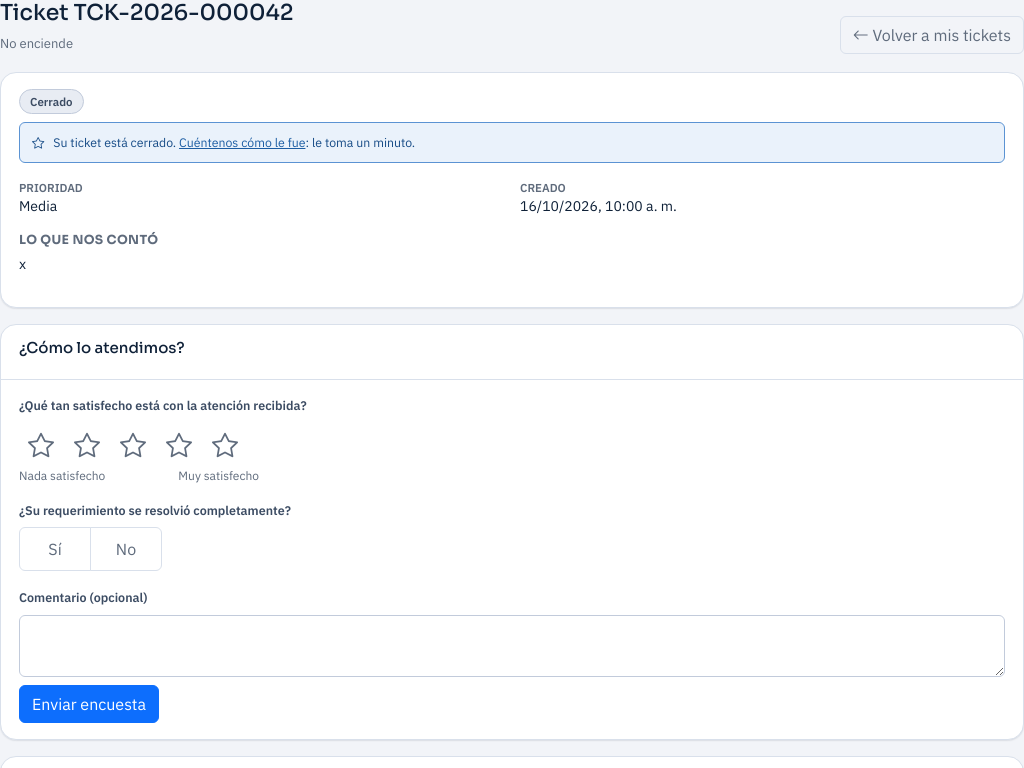
Test: La encuesta de satisfacción › se responde con estrellas, resuelto y comentario
The width and height of the screenshot is (1024, 768).
Step 1. Click the radio button named "4 de 5" → (179, 445), box left=157, top=423, right=201, bottom=467
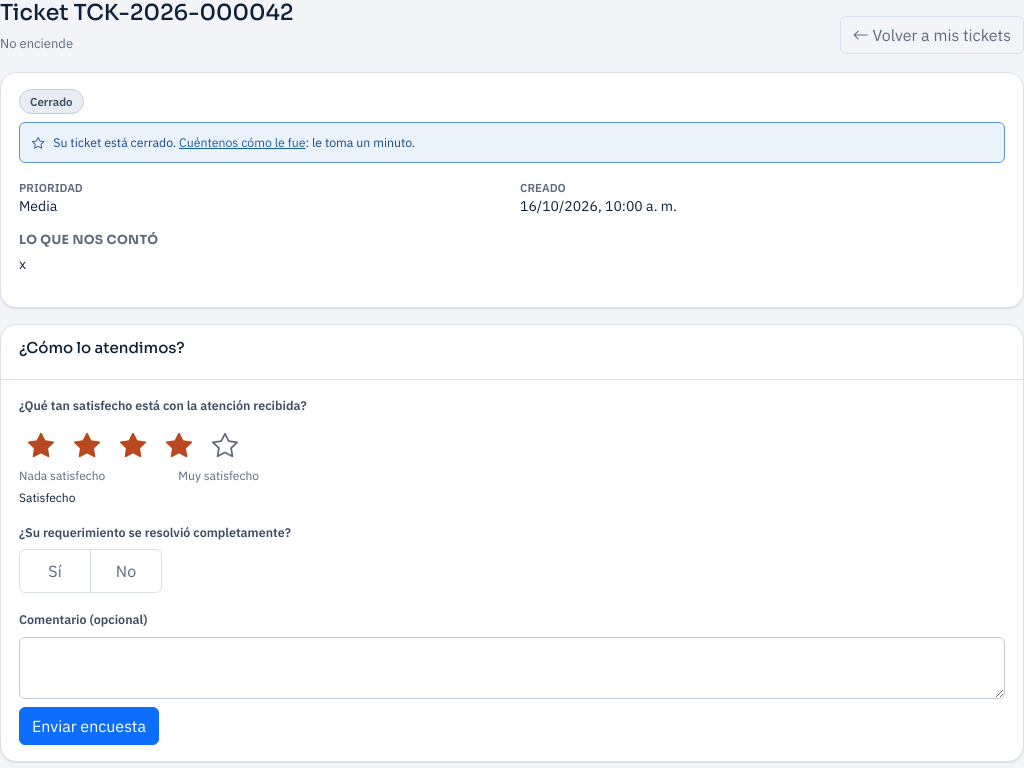
Step 2. Click the 6th radio button labelled "Sí" → (55, 571), box left=19, top=549, right=91, bottom=593
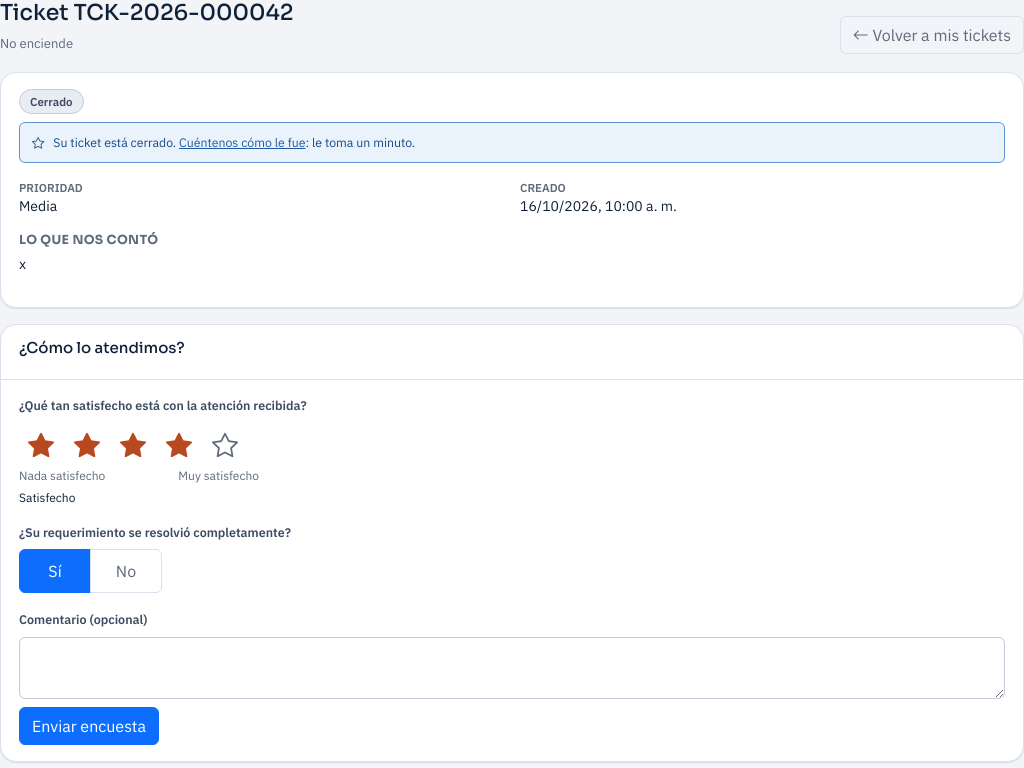
Step 3. Click the button "Enviar encuesta" → (89, 726), box left=19, top=707, right=159, bottom=745
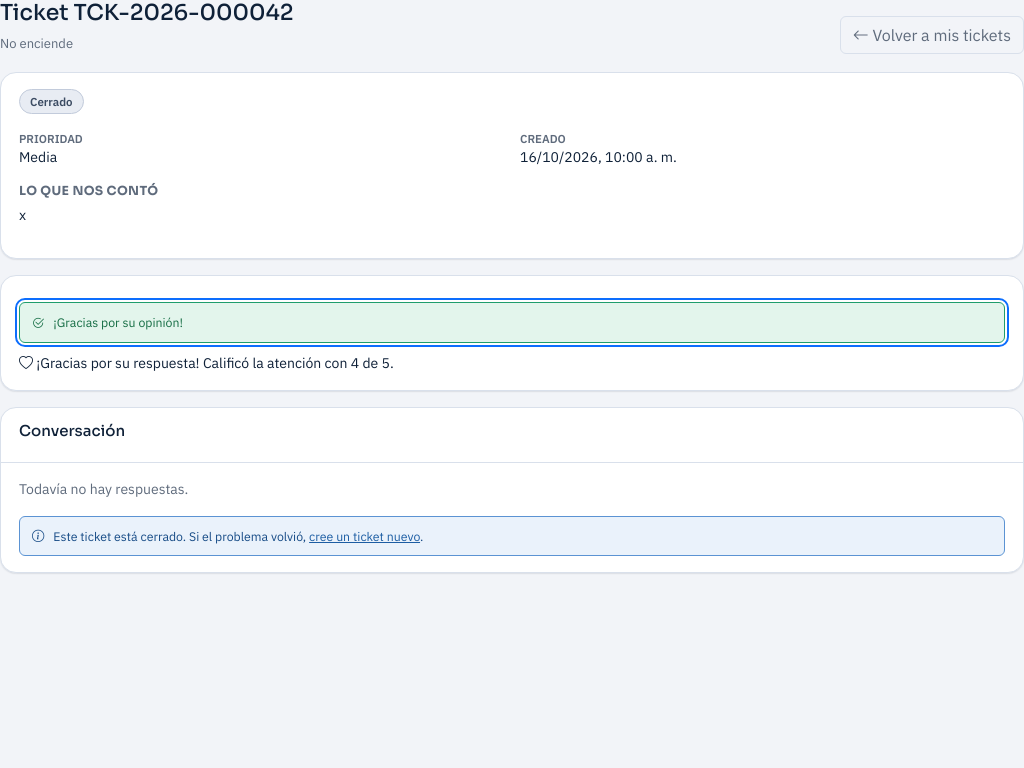
Now the text "¡Gracias por su respuesta! Calificó la atención con 4 de 5." is shown, box left=19, top=354, right=394, bottom=372
